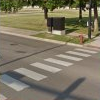crosswalk: (0, 48, 97, 100)
